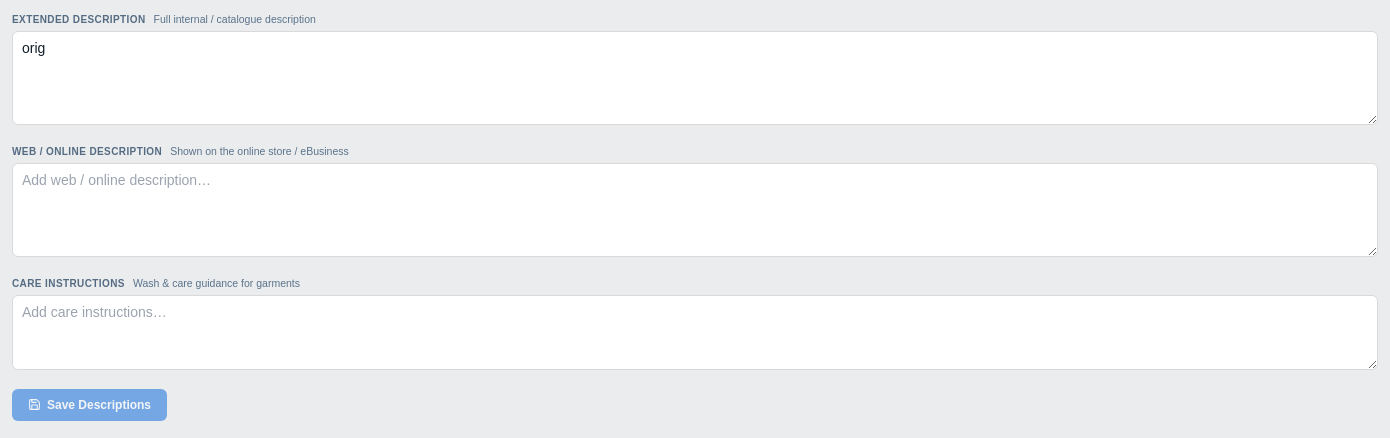
Scenario: editing enables Save and PATCHes only the three description fields
Replace the text in the text box with placeholder "Add extended description…" with "new copy" at (695, 78), box left=12, top=31, right=1378, bottom=125
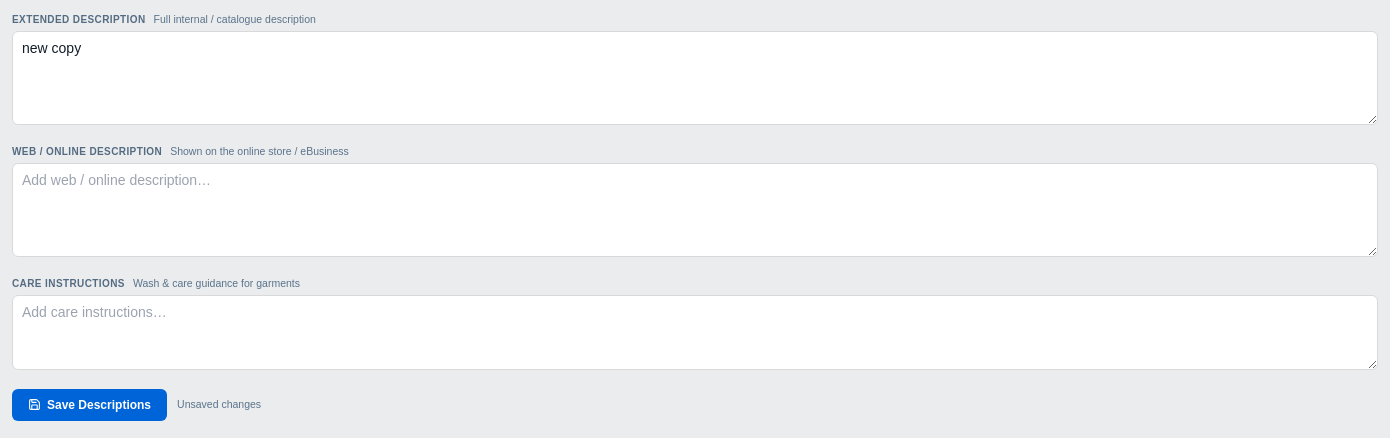
Expected: the button "Save Descriptions" is enabled
Click the button "Save Descriptions".
click(90, 405)  # box left=12, top=389, right=167, bottom=421
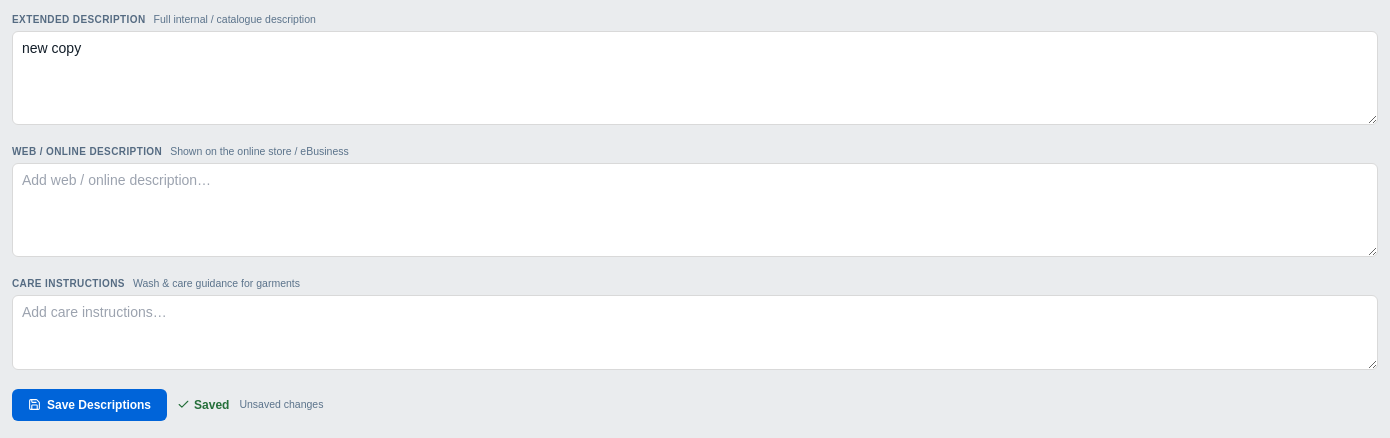
Expected: the text "Saved" is shown, left=177, top=396, right=229, bottom=414
